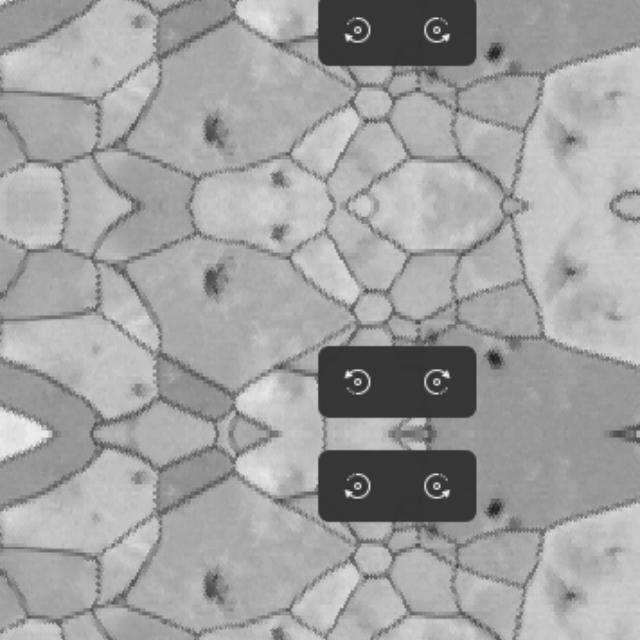good_void: (194, 251, 230, 304), (194, 106, 230, 159), (194, 563, 230, 616), (475, 339, 514, 378), (475, 32, 514, 71), (475, 488, 514, 527), (260, 214, 299, 245), (260, 165, 299, 196), (124, 375, 154, 405), (124, 5, 154, 35), (558, 579, 590, 607), (124, 462, 154, 491), (558, 260, 590, 287), (558, 123, 590, 150), (602, 540, 634, 561), (261, 622, 298, 640), (502, 329, 526, 356), (502, 54, 526, 81), (502, 511, 526, 538), (602, 306, 634, 326), (602, 84, 634, 104), (85, 335, 109, 358), (85, 52, 109, 75), (85, 509, 109, 532), (419, 523, 446, 542), (419, 325, 446, 343), (419, 67, 446, 85)
